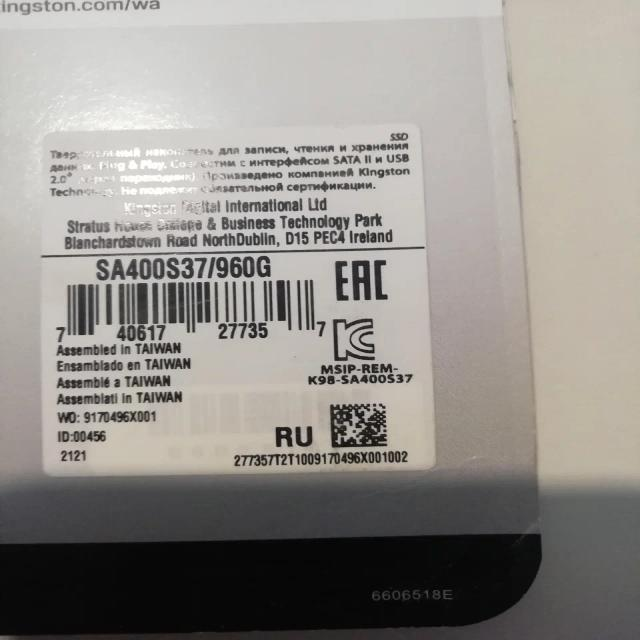datamatrix: (329, 404, 391, 450)
